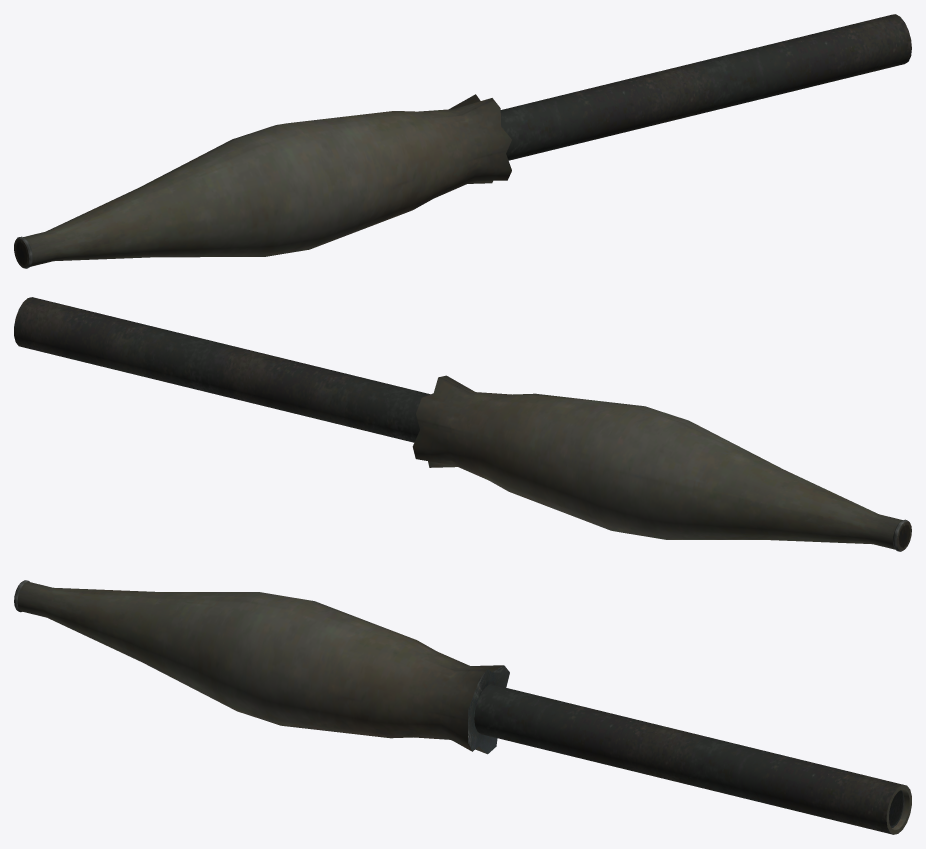
File: RPG7bullet.fbx
3 renders of one model, top to bottom at view 1: azimuth 30°, elevation 25°; view 2: azimuth 150°, elevation 25°; view 3: azimuth 330°, elevation 25°, orthographic.
Visible parts, largest first — view 1: rpg 7 bullet; view 2: rpg 7 bullet; view 3: rpg 7 bullet.
Part boxes in pixels (x1,y1,x2,y2): rpg 7 bullet: (14, 14, 911, 268); rpg 7 bullet: (14, 297, 911, 551); rpg 7 bullet: (14, 580, 911, 834).
Size of the model in its own units: 2147 by 274 by 273.
